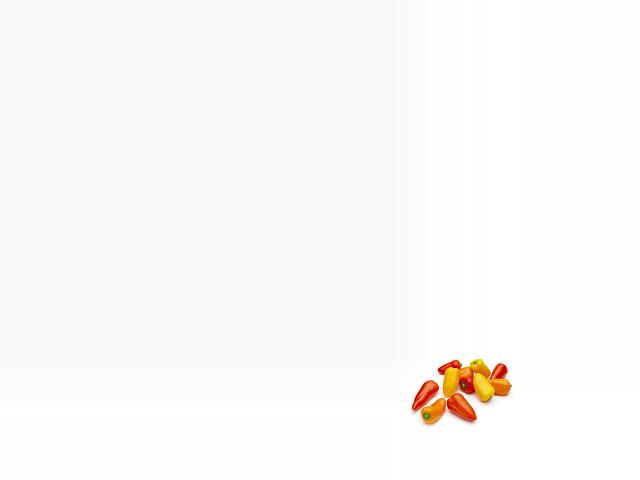bell_pepper: (434, 358, 463, 372)
